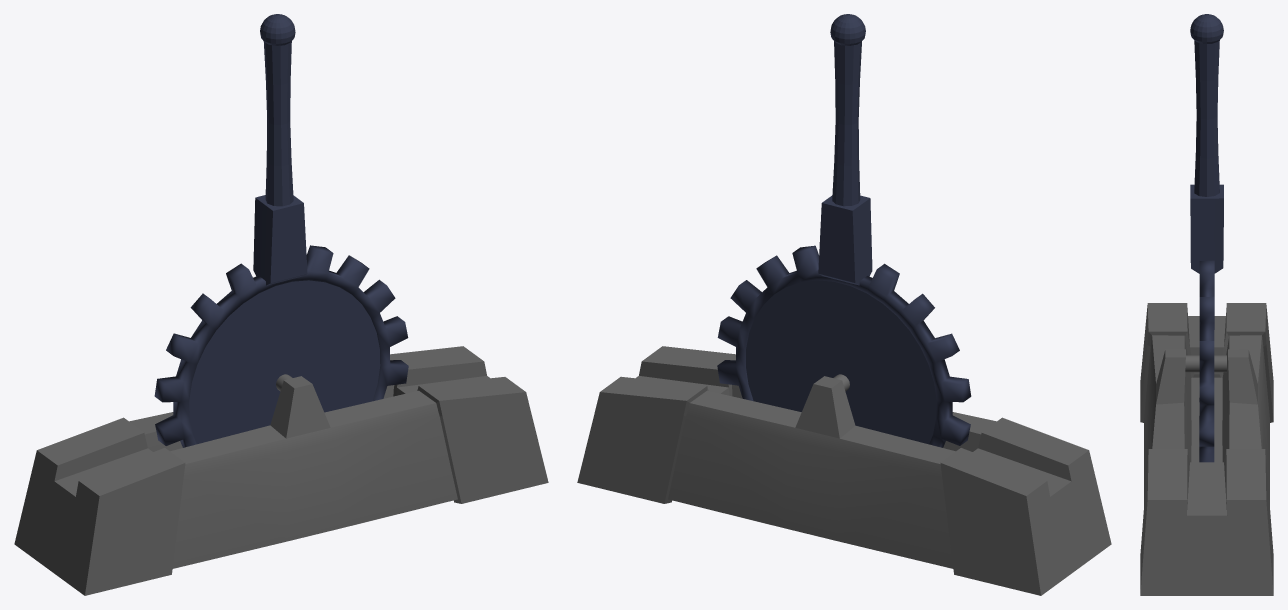
Rendered from MagGearSwitch_OppositeAnimation.FBX.
3 views of the same model, side by side, from view 1: azimuth 30°, elevation 25°; view 2: azimuth 150°, elevation 25°; view 3: azimuth 270°, elevation 25° (orthographic). The views are drawn at different scales.
Parts seen in each view (by area): view 1: GearSwitchBase, GearSwitch, rS_magPlate, LS_magPlate, Box002; view 2: GearSwitchBase, GearSwitch, rS_magPlate, LS_magPlate, Box002; view 3: LS_magPlate, GearSwitchBase, Box002, rS_magPlate, GearSwitch, Cylinder055.
Boxes of the visible parts, box(x1,y1,x2,y2) form: GearSwitchBase: box(129, 376, 457, 568); GearSwitch: box(154, 245, 408, 447); rS_magPlate: box(14, 417, 185, 595); LS_magPlate: box(390, 346, 548, 503); Box002: box(253, 14, 307, 285); GearSwitchBase: box(668, 376, 996, 568); GearSwitch: box(717, 245, 971, 447); rS_magPlate: box(940, 417, 1111, 595); LS_magPlate: box(577, 346, 735, 503); Box002: box(818, 14, 872, 285); LS_magPlate: box(1140, 449, 1273, 595); GearSwitchBase: box(1144, 335, 1269, 505); Box002: box(1190, 14, 1223, 273); rS_magPlate: box(1140, 303, 1273, 422); GearSwitch: box(1199, 260, 1214, 462); Cylinder055: box(1185, 355, 1226, 372).
Size of the model in its own units: 1.88 by 1.94 by 0.4956.
